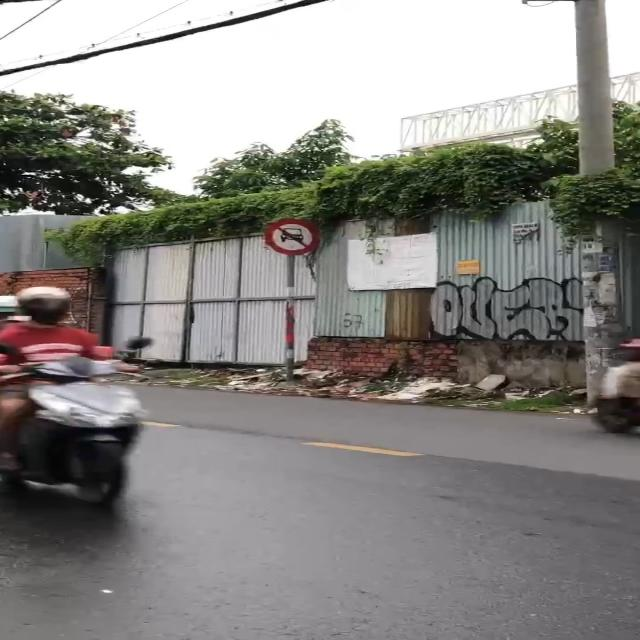Bien bao cam xe oto: (260, 216, 328, 256)
